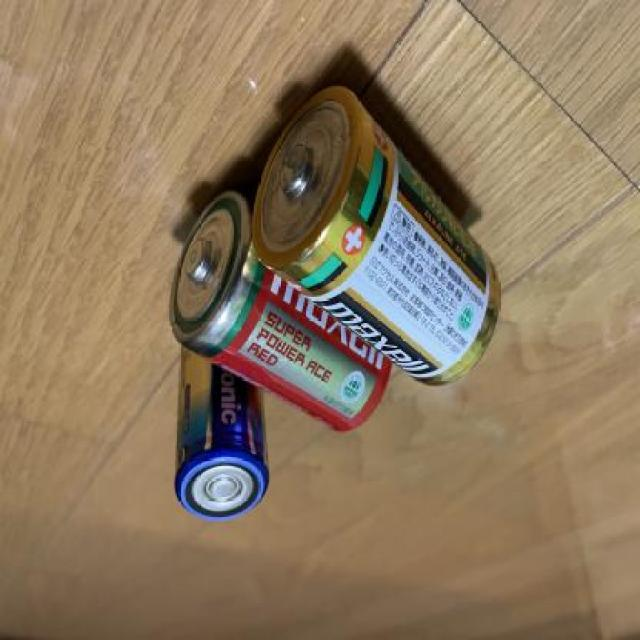hazardous waste: (252, 78, 505, 391), (168, 185, 394, 432), (169, 330, 277, 522)
